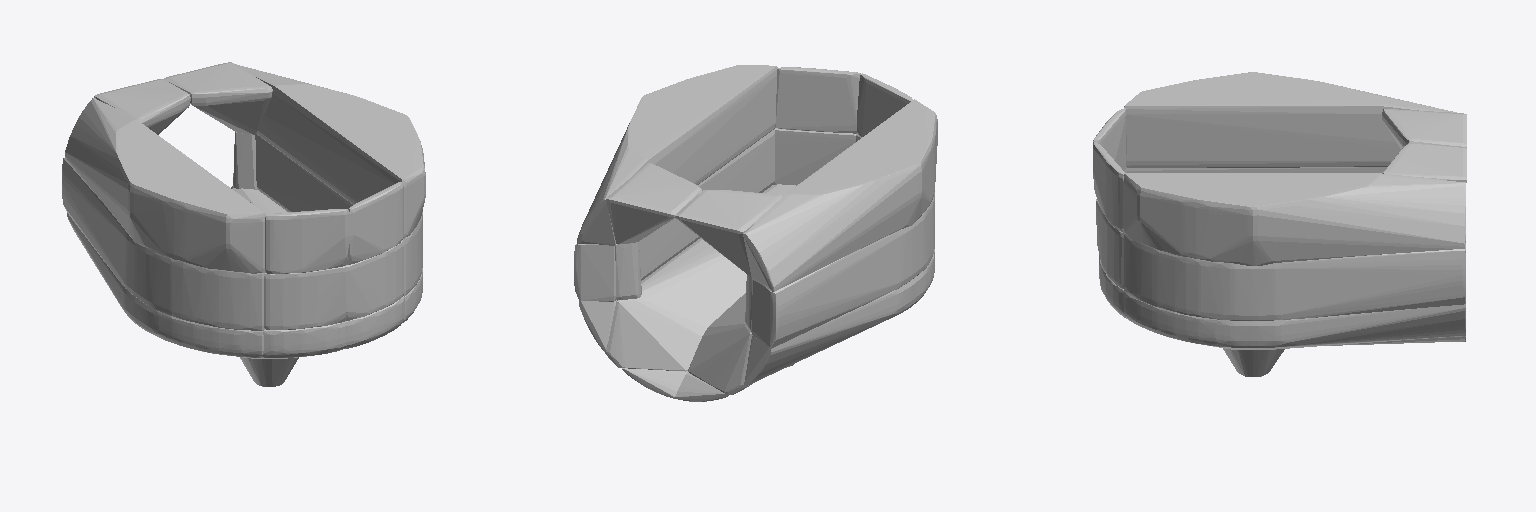
Rendered from hip-pitch-housing_split.obj.
3 views of the same model, side by side, from view 1: azimuth 30°, elevation 25°; view 2: azimuth 150°, elevation 25°; view 3: azimuth 270°, elevation 25° (orthographic).
Visible parts, largest first — view 1: geometry_2, geometry_19, geometry_1, geometry_8, geometry_18, geometry_6, geometry_0, geometry_16, geometry_15, geometry_14, geometry_9, geometry_5 (+3 smaller); view 2: geometry_2, geometry_19, geometry_12, geometry_1, geometry_18, geometry_0, geometry_15, geometry_16, geometry_9, geometry_5, geometry_14, geometry_8 (+4 smaller); view 3: geometry_19, geometry_2, geometry_18, geometry_17, geometry_9, geometry_16, geometry_15, geometry_14, geometry_1, geometry_8, geometry_11, geometry_12.
Part boxes in pixels (left/top/right/bottom): geometry_2: left=65, top=98, right=265, bottom=273; geometry_19: left=236, top=64, right=425, bottom=238; geometry_1: left=62, top=157, right=264, bottom=330; geometry_8: left=265, top=209, right=348, bottom=273; geometry_18: left=255, top=134, right=422, bottom=296; geometry_6: left=264, top=265, right=349, bottom=329; geometry_0: left=67, top=213, right=263, bottom=357; geometry_16: left=164, top=62, right=272, bottom=134; geometry_15: left=347, top=182, right=403, bottom=264; geometry_14: left=346, top=240, right=403, bottom=320; geometry_9: left=94, top=79, right=190, bottom=134; geometry_5: left=243, top=322, right=345, bottom=358; geometry_2: left=743, top=99, right=937, bottom=291; geometry_19: left=577, top=65, right=777, bottom=245; geometry_12: left=604, top=184, right=795, bottom=371; geometry_1: left=752, top=192, right=934, bottom=348; geometry_18: left=574, top=129, right=774, bottom=301; geometry_0: left=744, top=249, right=934, bottom=385; geometry_15: left=775, top=67, right=860, bottom=133; geometry_16: left=606, top=163, right=701, bottom=244; geometry_9: left=675, top=190, right=782, bottom=276; geometry_5: left=688, top=293, right=754, bottom=394; geometry_14: left=773, top=128, right=855, bottom=185; geometry_8: left=857, top=73, right=912, bottom=136; geometry_19: left=1123, top=173, right=1465, bottom=265; geometry_2: left=1124, top=72, right=1456, bottom=167; geometry_18: left=1124, top=234, right=1465, bottom=320; geometry_17: left=1124, top=292, right=1465, bottom=349; geometry_9: left=1382, top=109, right=1466, bottom=149; geometry_16: left=1383, top=142, right=1466, bottom=182; geometry_15: left=1093, top=142, right=1124, bottom=232; geometry_14: left=1096, top=199, right=1123, bottom=288; geometry_1: left=1127, top=167, right=1386, bottom=173; geometry_8: left=1093, top=108, right=1126, bottom=170; geometry_11: left=1223, top=348, right=1284, bottom=376; geometry_12: left=1099, top=260, right=1465, bottom=345.
Bounding box in the file's own units: 0.1037 × 0.0824 × 0.12.